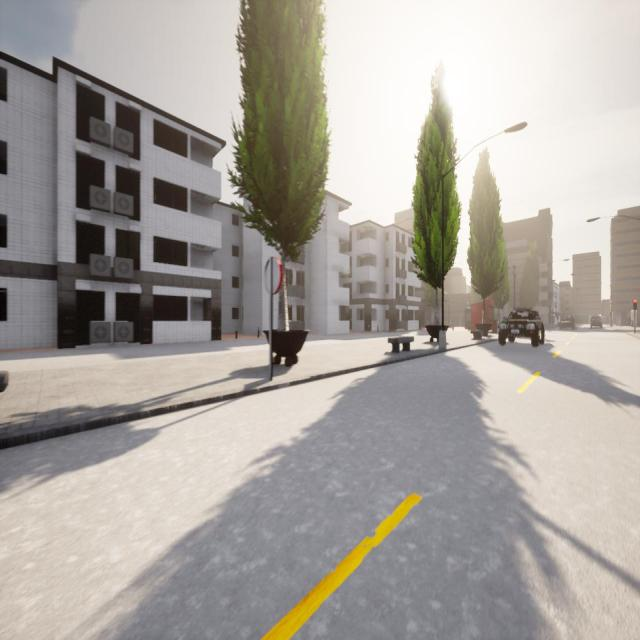Traffic_Signs: (262, 259, 282, 295)
Vehicle: (498, 307, 544, 346), (560, 314, 576, 328), (590, 315, 603, 329)
traffic_light: (633, 299, 637, 309)
